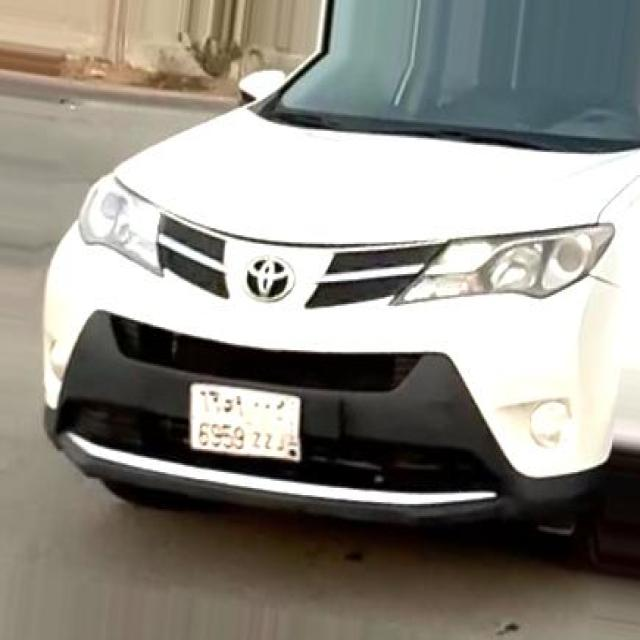Car-plate: (183, 373, 323, 488)
